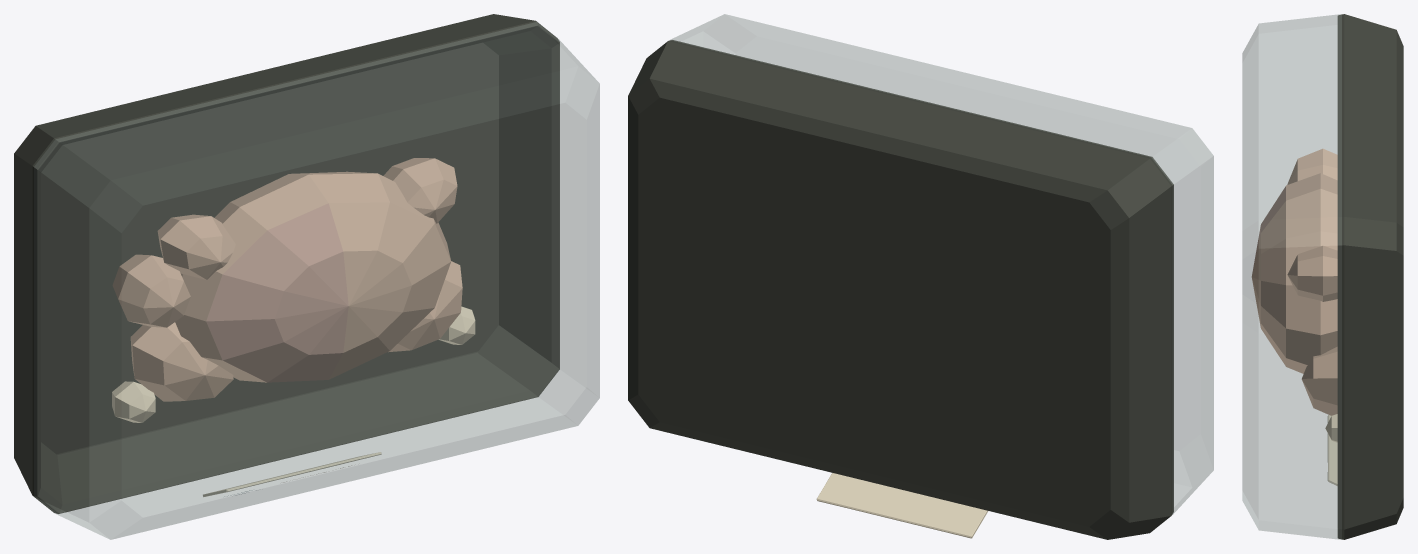
The model's file is turkey.glb.
3 renders of one model, left to right at view 1: azimuth 30°, elevation 25°; view 2: azimuth 150°, elevation 25°; view 3: azimuth 270°, elevation 25°, orthographic. The views are drawn at different scales.
Visible parts, largest first — view 1: turkey; view 2: turkey; view 3: turkey.
Part boxes in pixels (x1,y1,x2,y2): turkey: [14, 14, 599, 539]; turkey: [628, 14, 1213, 539]; turkey: [1242, 14, 1403, 539].
Size of the model in its own units: 0.22 by 0.1639 by 0.068.
